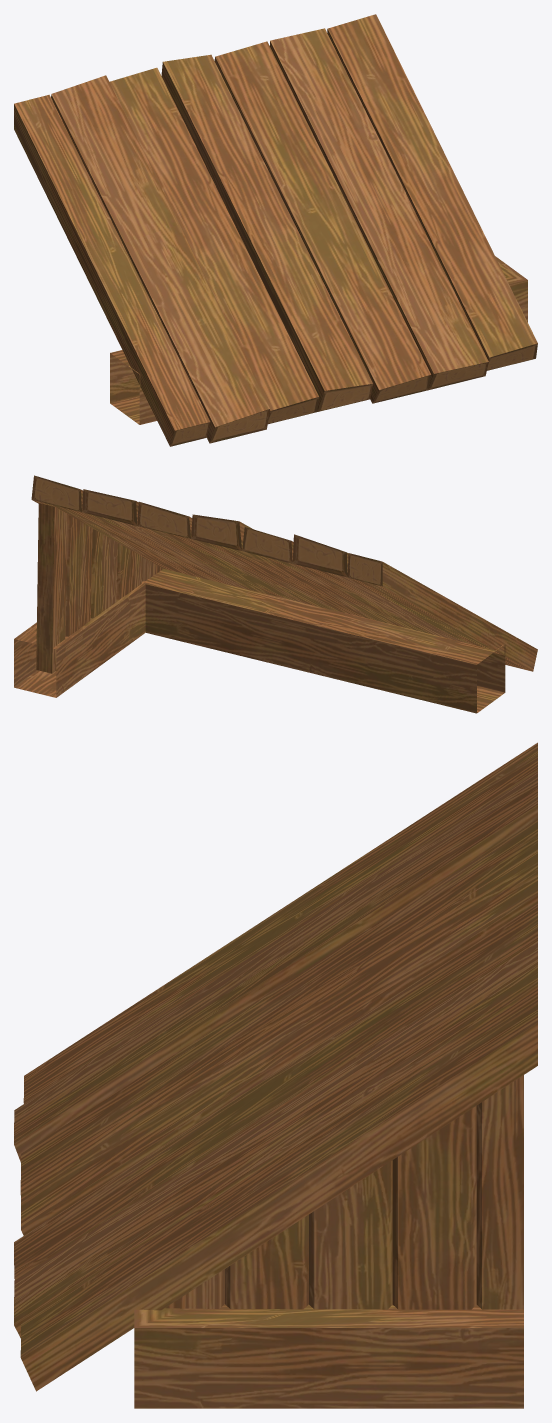
The model's file is Roof_Wooden_2x1_R.glb.
3 renders of one model, top to bottom at view 1: azimuth 30°, elevation 25°; view 2: azimuth 150°, elevation 25°; view 3: azimuth 270°, elevation 25°, orthographic. The views are drawn at different scales.
Visible parts, largest first — view 1: Roof_Wooden_2x1_R; view 2: Roof_Wooden_2x1_R; view 3: Roof_Wooden_2x1_R.
Part boxes in pixels (x1,y1,x2,y2): Roof_Wooden_2x1_R: (14,14,537,446); Roof_Wooden_2x1_R: (14,475,537,713); Roof_Wooden_2x1_R: (14,742,537,1408).
Bounding box in the file's own units: 2.13 × 1.25 × 1.56.
Materials: 1 (1 with a texture image).
